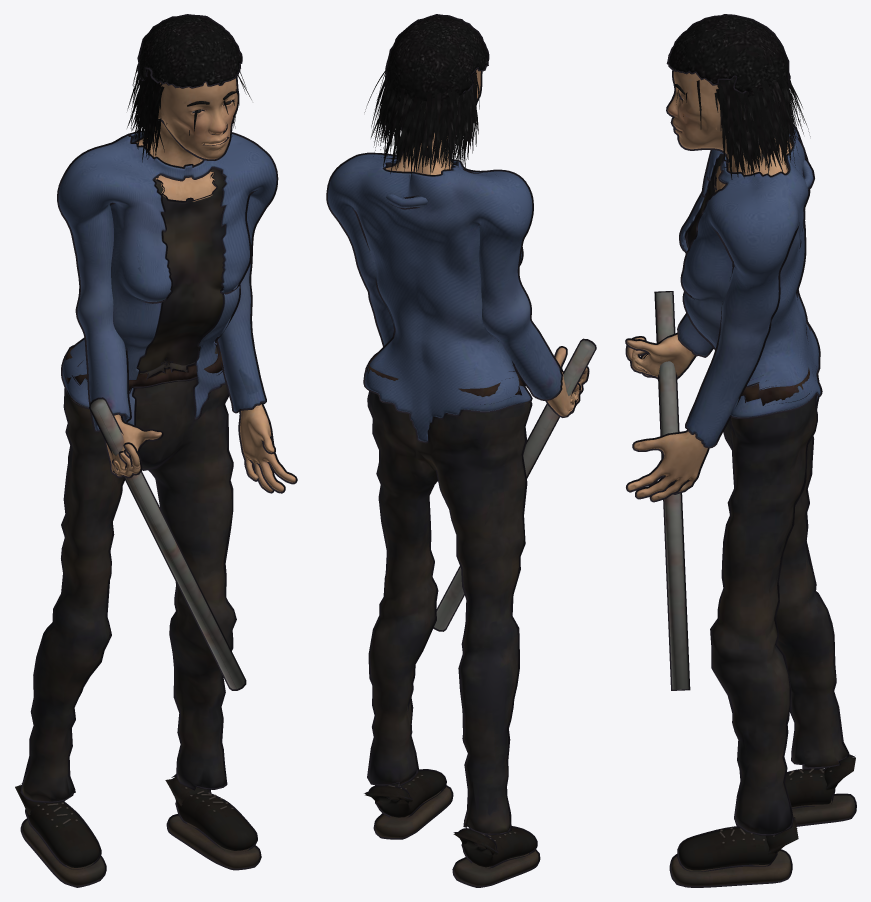
3 views of the same model, side by side, from view 1: azimuth 30°, elevation 25°; view 2: azimuth 150°, elevation 25°; view 3: azimuth 270°, elevation 25° (orthographic). The views are drawn at different scales.
Visible parts, largest first — view 1: F3 pants, F3 jacket, F3 body, F3 tee, f3 haircap, f3 weapon, F3 jacket hull, F3 pants hull, f3 L shoe, f3 R shoe, f3 hair, F3 body hull (+5 smaller); view 2: F3 pants, F3 jacket, f3 hair, f3 haircap, F3 pants hull, f3 weapon, F3 jacket hull, f3 R shoe, f3 L shoe, F3 body, f3 R sole, f3 L sole (+1 smaller); view 3: F3 pants, F3 jacket, F3 body, f3 haircap, f3 hair, f3 weapon, f3 L shoe, F3 jacket hull, F3 pants hull, f3 L sole, f3 R shoe, F3 body hull (+4 smaller).
Part boxes in pixels (box(x1,y1,x2,y2)): F3 pants: box(22, 346, 234, 801); F3 jacket: box(58, 132, 276, 430); F3 body: box(106, 78, 295, 491); F3 tee: box(138, 168, 225, 371); f3 haircap: box(139, 15, 241, 87); f3 weapon: box(90, 399, 244, 689); F3 jacket hull: box(57, 130, 278, 432); F3 pants hull: box(20, 343, 236, 802); f3 L shoe: box(165, 776, 256, 850); f3 R shoe: box(15, 785, 99, 867); f3 hair: box(127, 64, 251, 162); F3 body hull: box(103, 76, 297, 493); F3 pants: box(368, 392, 530, 833); F3 jacket: box(328, 154, 561, 441); f3 hair: box(364, 67, 479, 176); f3 haircap: box(386, 16, 487, 131); F3 pants hull: box(367, 389, 532, 834); f3 weapon: box(434, 340, 594, 630); F3 jacket hull: box(326, 152, 562, 443); f3 R shoe: box(453, 827, 535, 867); f3 L shoe: box(365, 770, 445, 817); F3 body: box(386, 69, 587, 416); f3 R sole: box(454, 850, 538, 886); f3 L sole: box(375, 787, 451, 837); F3 pants: box(712, 397, 847, 834); F3 jacket: box(679, 127, 820, 446); F3 body: box(626, 71, 792, 500); f3 haircap: box(668, 16, 788, 108); f3 hair: box(676, 74, 810, 179); f3 weapon: box(656, 292, 688, 689); f3 L shoe: box(679, 817, 798, 870); F3 jacket hull: box(677, 124, 822, 448); F3 pants hull: box(710, 375, 849, 835); f3 L sole: box(671, 850, 790, 886); f3 R shoe: box(785, 756, 855, 806); F3 body hull: box(625, 71, 774, 502).
Size of the model in its own units: 0.4821 by 1.71 by 0.4201.
Materials: 22 (18 with a texture image).
